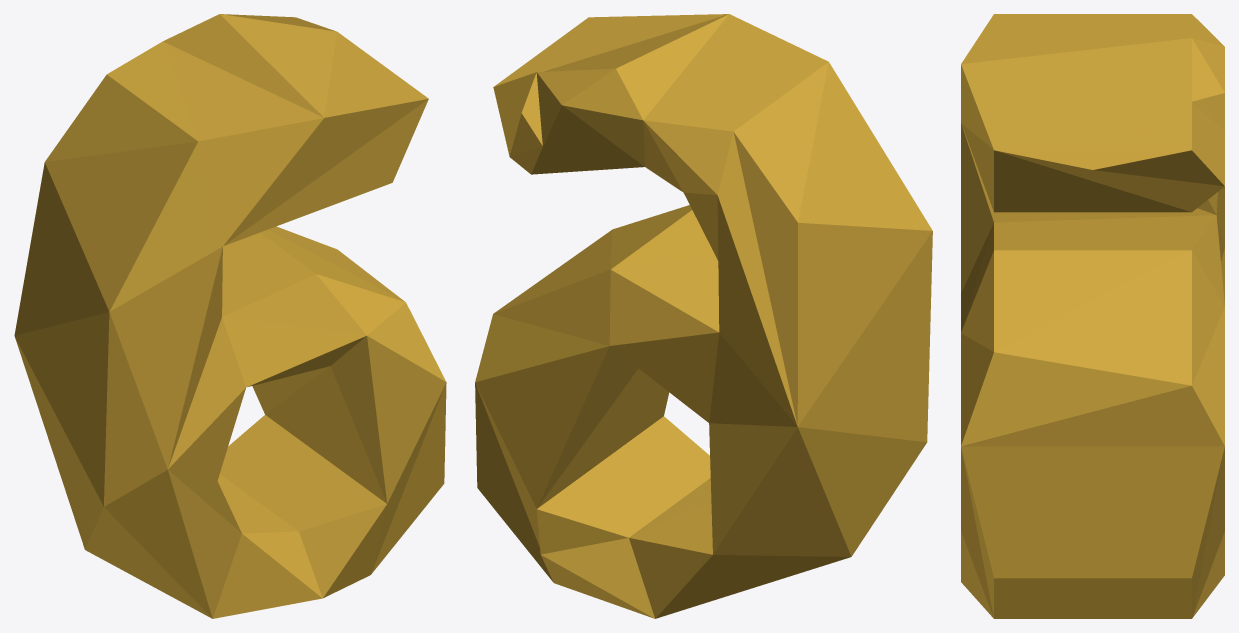
3 renders of one model, left to right at view 1: azimuth 30°, elevation 25°; view 2: azimuth 150°, elevation 25°; view 3: azimuth 270°, elevation 25°, orthographic. The views are drawn at different scales.
Parts seen in each view (by area): view 1: 6_0057D0_0; view 2: 6_0057D0_0; view 3: 6_0057D0_0.
Part boxes in pixels (box(x1,y1,x2,y2)): 6_0057D0_0: box(14, 14, 446, 618); 6_0057D0_0: box(475, 14, 932, 618); 6_0057D0_0: box(961, 14, 1224, 618).
Size of the model in its own units: 48.29 by 69.65 by 30.
